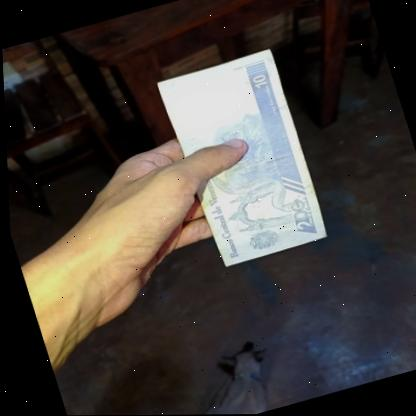ten-back-vef: (154, 48, 328, 273)
